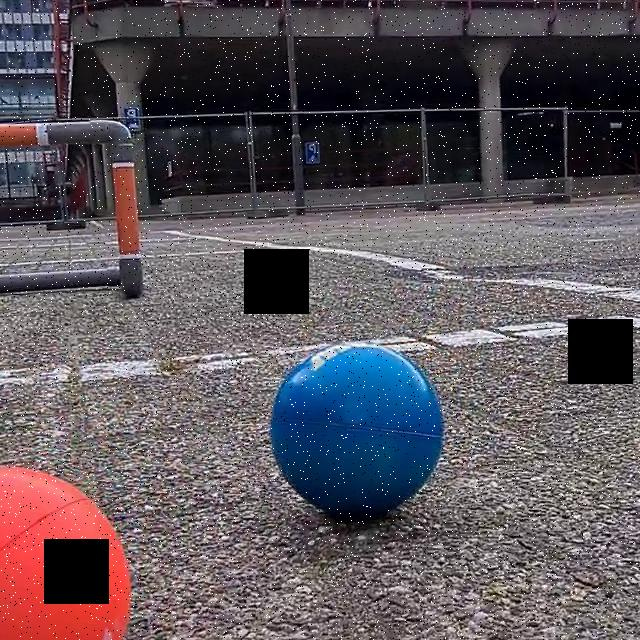ball: (272, 339, 446, 520), (0, 461, 134, 640)
